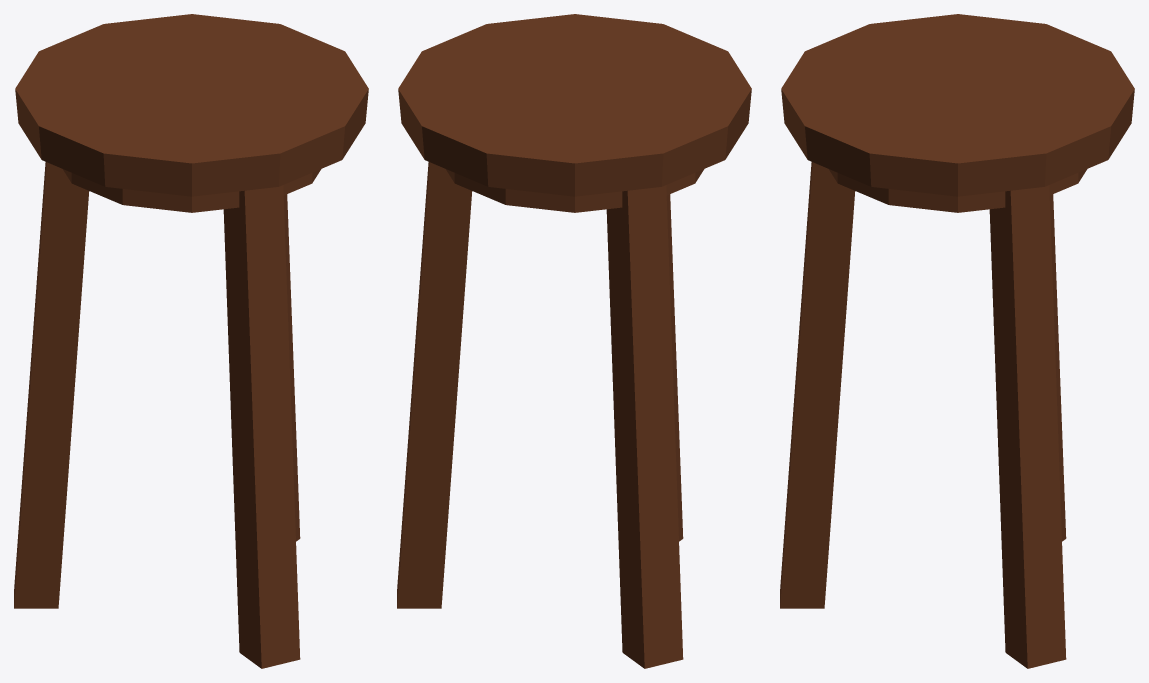
Rendered from WoodenStool.glb.
The picture shows the model from 3 angles, left to right: view 1: azimuth 30°, elevation 25°; view 2: azimuth 150°, elevation 25°; view 3: azimuth 270°, elevation 25°; orthographic projection.
Visible parts, largest first — view 1: WoodenStool; view 2: WoodenStool; view 3: WoodenStool.
Part boxes in pixels (x1=…): WoodenStool: x1=14, y1=14, x2=368, y2=668; WoodenStool: x1=397, y1=14, x2=751, y2=668; WoodenStool: x1=780, y1=14, x2=1134, y2=668.
Bounding box in the file's own units: 0.4628 × 0.7368 × 0.4641.
